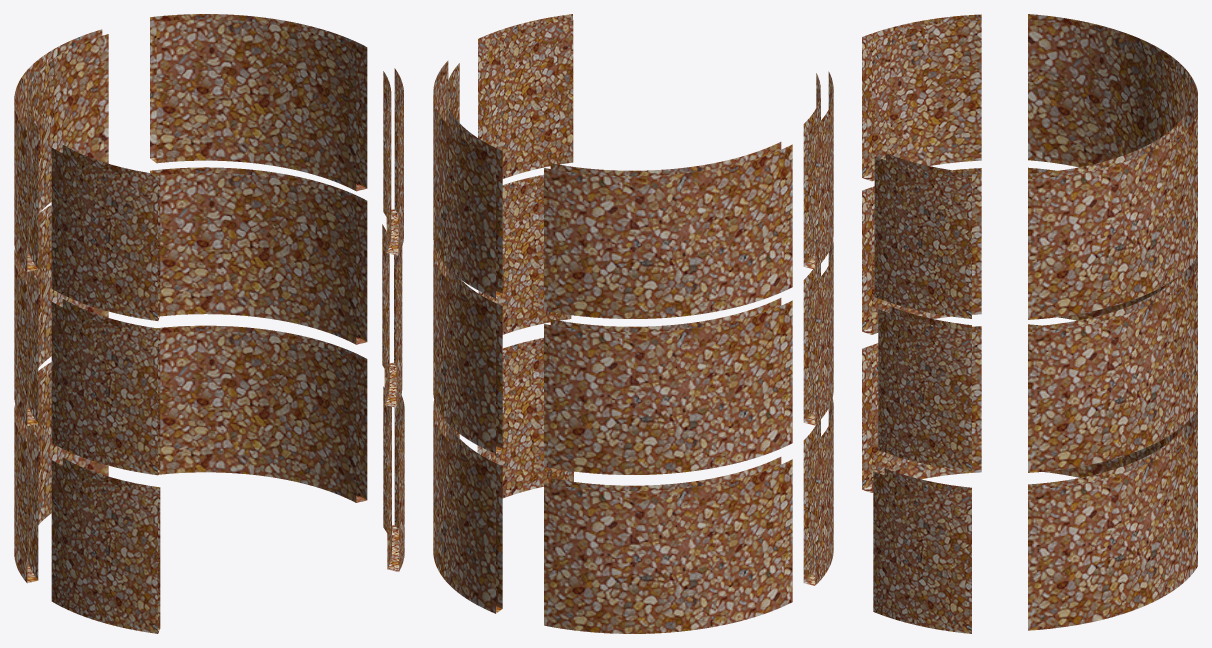
Rendered from circle wall.fbx.
3 renders of one model, left to right at view 1: azimuth 30°, elevation 25°; view 2: azimuth 150°, elevation 25°; view 3: azimuth 270°, elevation 25°, orthographic.
Parts seen in each view (by area): view 1: circle wall; view 2: circle wall; view 3: circle wall.
Part boxes in pixels (x1,y1,x2,y2): circle wall: [14, 14, 404, 633]; circle wall: [433, 14, 833, 633]; circle wall: [862, 14, 1197, 633].
Bounding box in the file's own units: 267 × 229 × 343.
Materials: 2 (2 with a texture image).
